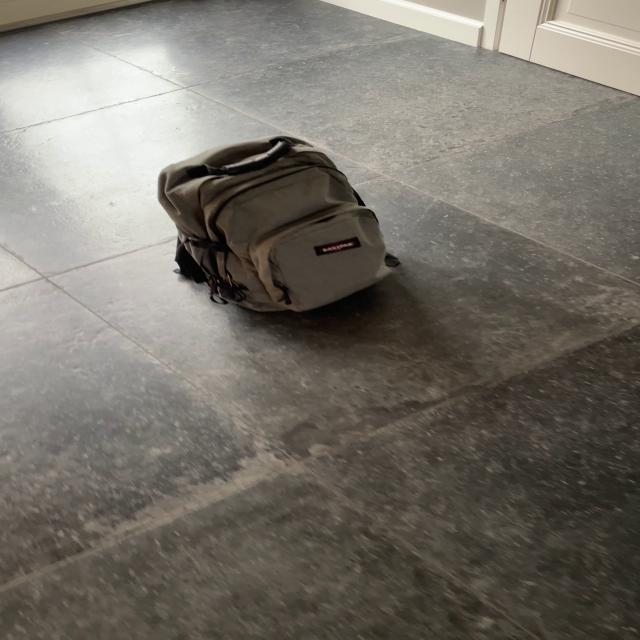backpack: (150, 129, 400, 319)
